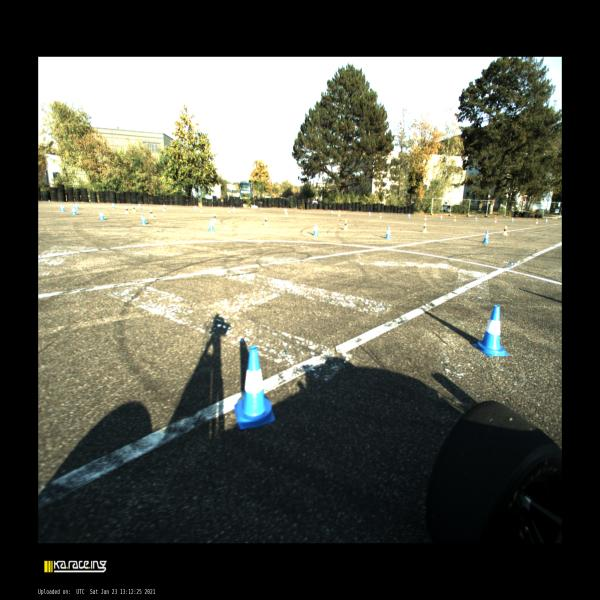blue_cone: (235, 347, 275, 429), (472, 306, 510, 356), (384, 226, 392, 239), (482, 231, 490, 243), (208, 218, 215, 230), (312, 223, 318, 236), (140, 214, 147, 224), (98, 210, 105, 220), (71, 205, 77, 215), (60, 204, 66, 212), (75, 202, 79, 209), (112, 202, 115, 209), (138, 203, 141, 209), (194, 205, 197, 210), (368, 211, 371, 216), (511, 217, 514, 222), (545, 218, 548, 223), (163, 204, 166, 209), (283, 208, 286, 213), (233, 206, 235, 211), (408, 213, 410, 218), (475, 216, 477, 221), (331, 210, 333, 214), (440, 215, 442, 219)
yellow_cone: (423, 223, 428, 233), (344, 219, 348, 231), (503, 226, 508, 235), (212, 214, 217, 222), (149, 208, 153, 218), (264, 217, 268, 226), (162, 205, 167, 212), (132, 205, 136, 213), (284, 208, 288, 214), (125, 207, 128, 214), (200, 206, 203, 212), (379, 213, 382, 218), (424, 215, 427, 220), (228, 207, 230, 213), (338, 210, 340, 216), (494, 217, 496, 223), (536, 218, 538, 224), (454, 216, 456, 221)
